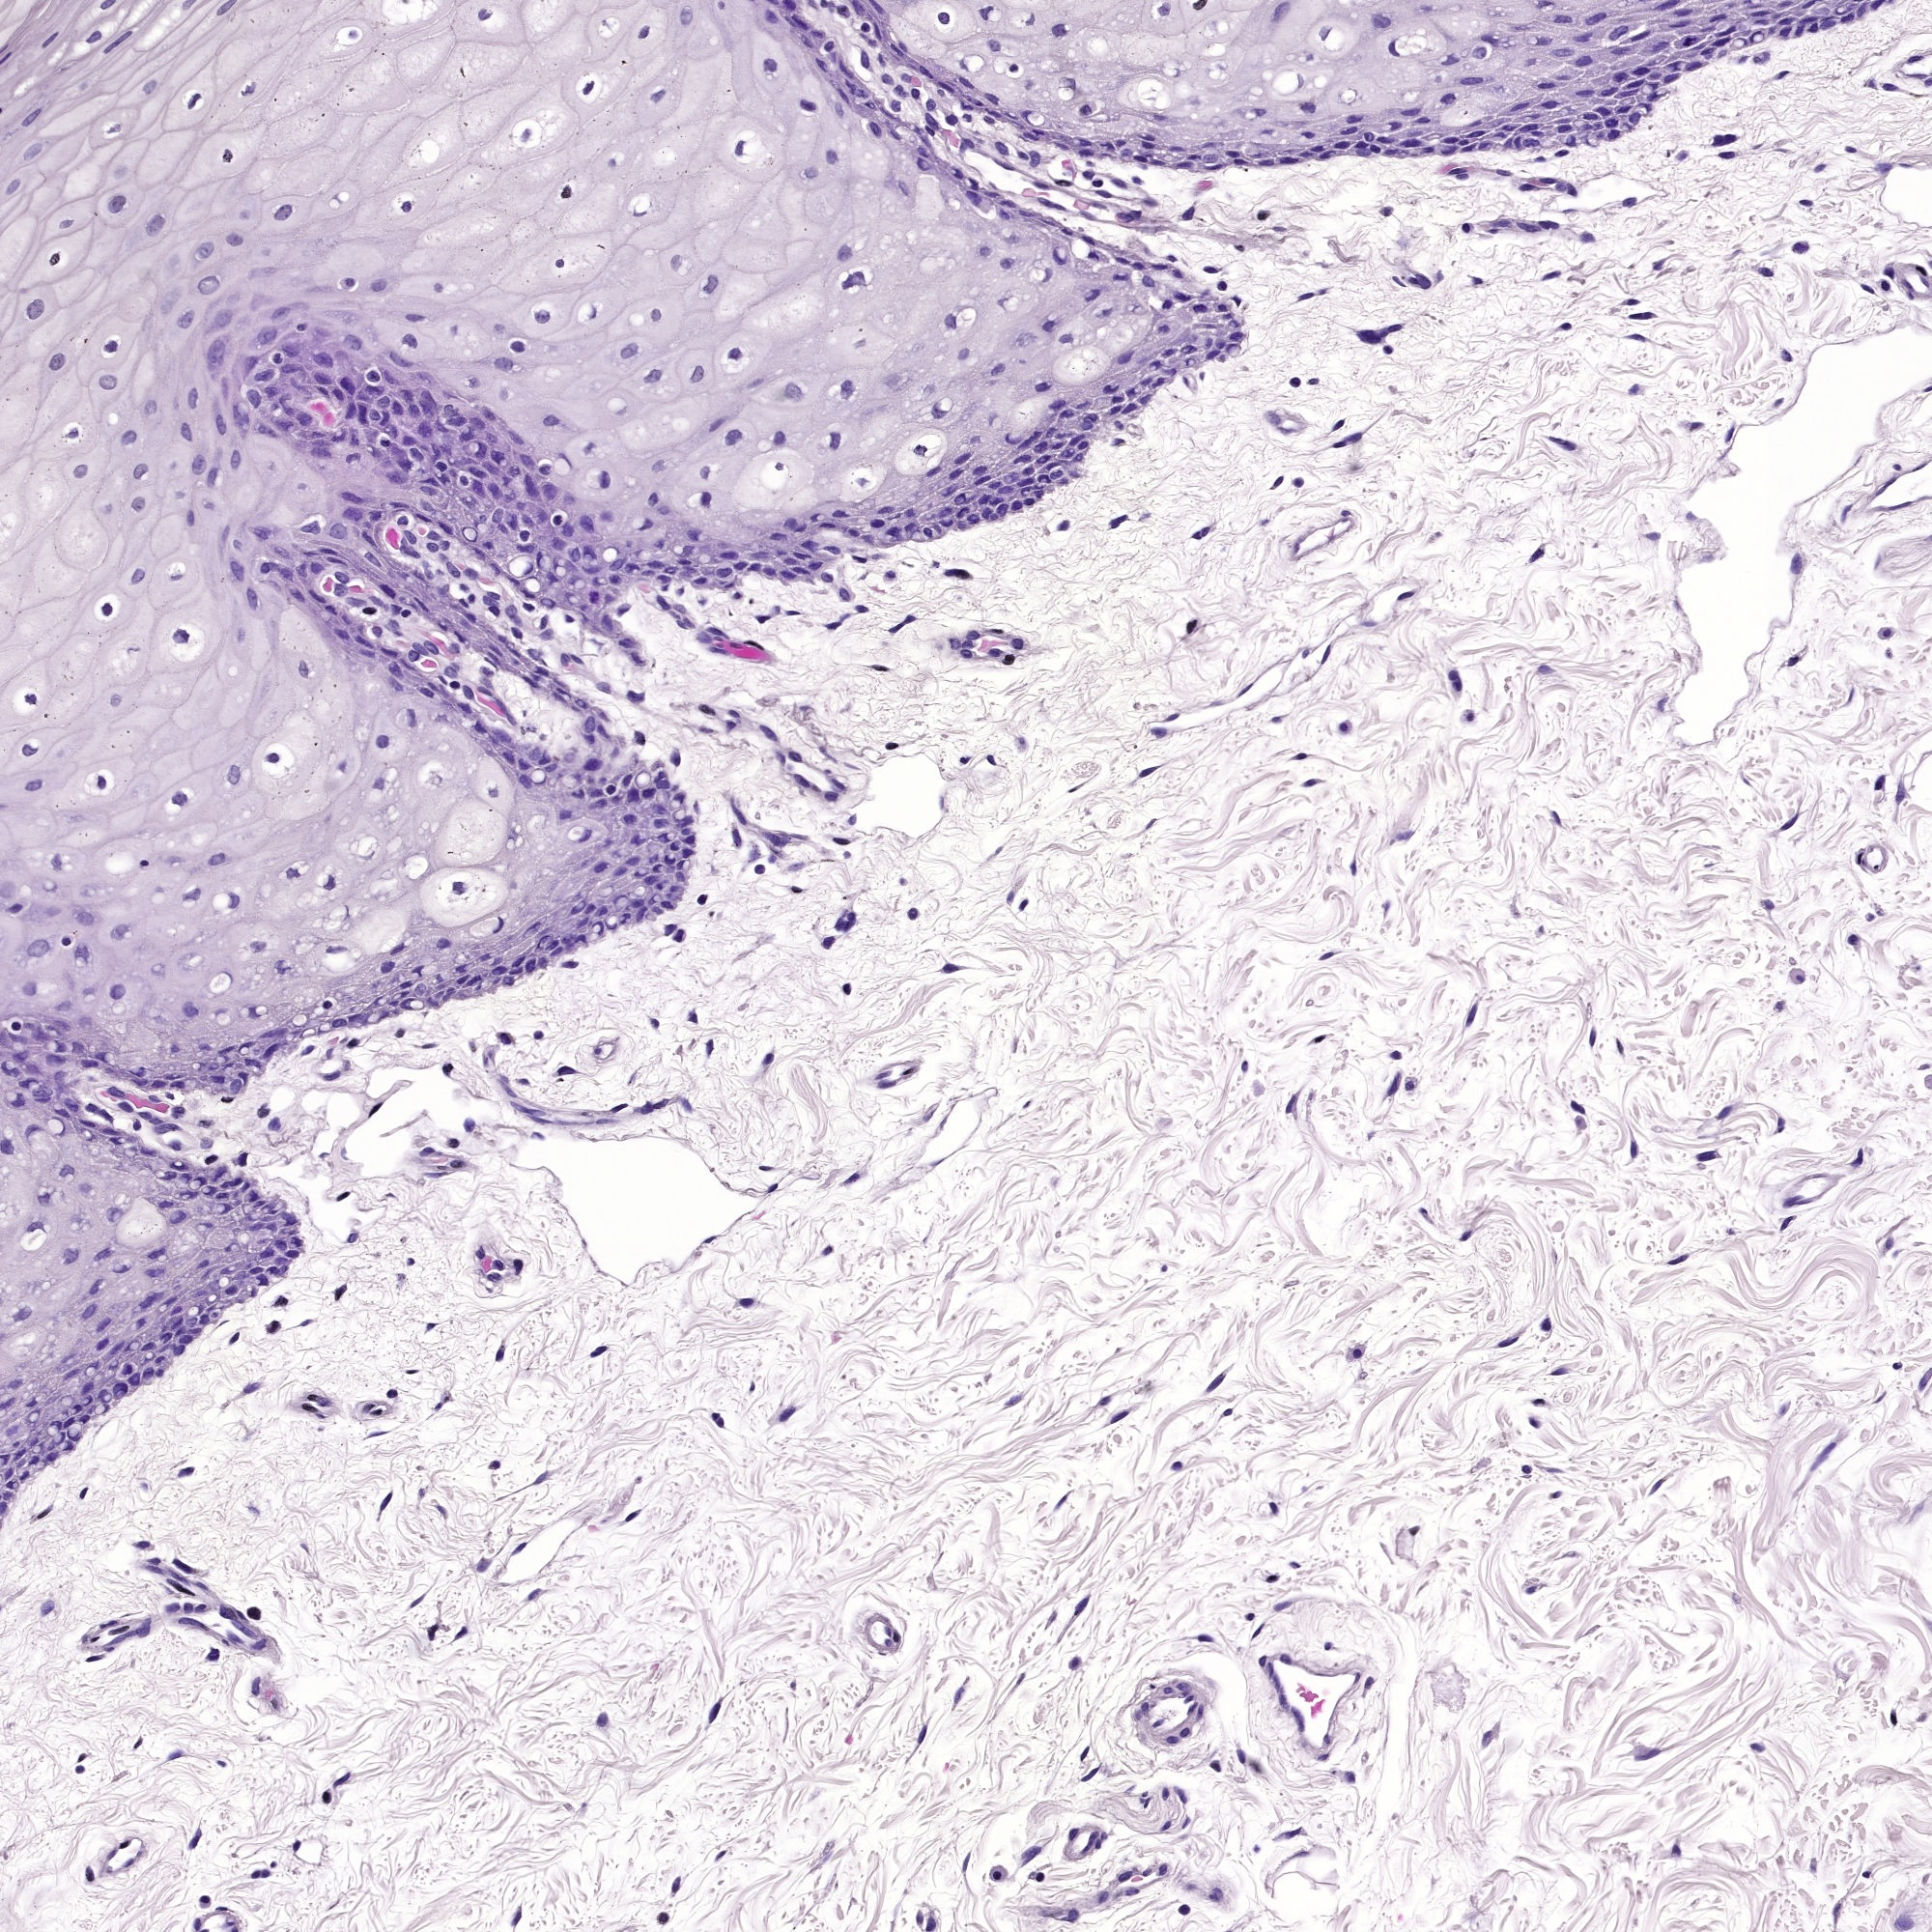epithelial: (732, 435, 741, 442), (78, 913, 87, 920), (278, 310, 283, 317), (402, 464, 409, 469), (50, 1058, 57, 1063), (69, 1104, 76, 1109), (354, 1016, 361, 1021), (203, 244, 207, 253), (218, 1077, 226, 1081), (30, 113, 35, 119), (1231, 334, 1237, 340), (1277, 7, 1283, 12), (269, 387, 274, 393), (527, 518, 533, 524), (372, 513, 377, 518), (219, 317, 226, 320), (80, 469, 83, 476), (426, 375, 430, 382), (651, 908, 658, 911), (660, 784, 667, 787), (479, 727, 483, 734), (32, 150, 37, 154), (626, 349, 632, 352), (287, 366, 297, 368), (349, 382, 352, 387), (387, 377, 393, 380), (800, 19, 803, 25), (1226, 315, 1231, 318), (1499, 133, 1504, 136), (428, 490, 432, 495), (444, 525, 448, 531), (653, 563, 658, 566), (936, 410, 941, 414), (812, 564, 823, 566), (787, 561, 793, 564), (807, 545, 812, 548), (625, 639, 628, 644), (361, 639, 364, 644), (387, 966, 391, 971), (50, 35, 53, 39), (34, 306, 37, 310), (117, 202, 120, 205), (232, 235, 235, 239), (805, 41, 809, 44), (807, 170, 810, 173), (826, 157, 830, 161), (809, 103, 812, 106), (840, 251, 844, 255), (1157, 265, 1161, 269), (876, 4, 879, 7), (1353, 117, 1357, 120), (140, 467, 142, 474), (265, 432, 269, 435), (396, 476, 403, 478), (488, 414, 492, 418), (476, 471, 479, 474), (372, 561, 375, 564), (345, 617, 349, 621), (501, 527, 504, 531), (662, 575, 665, 579), (754, 566, 757, 570), (844, 593, 847, 596), (1143, 398, 1146, 402), (648, 793, 655, 794), (658, 775, 662, 778), (589, 720, 591, 727), (540, 669, 543, 672), (501, 734, 504, 738), (432, 685, 435, 688), (377, 782, 380, 786), (32, 784, 39, 786), (274, 1033, 281, 1035), (62, 1111, 65, 1115), (230, 1182, 237, 1184), (177, 1323, 180, 1327), (145, 1300, 149, 1304), (207, 283, 209, 288), (322, 379, 327, 380), (837, 106, 839, 111), (1120, 260, 1125, 262), (1090, 295, 1095, 297), (994, 44, 996, 50), (1373, 149, 1378, 150), (1430, 145, 1431, 150), (1550, 103, 1552, 108), (188, 517, 193, 518), (294, 594, 299, 596), (313, 596, 318, 598), (375, 414, 377, 419), (425, 428, 426, 433), (421, 518, 426, 520), (398, 504, 403, 506), (607, 623, 609, 628), (778, 437, 780, 442), (787, 577, 793, 579), (639, 911, 640, 916), (598, 911, 603, 913), (552, 764, 554, 770), (380, 738, 382, 743), (39, 945, 41, 950), (28, 987, 30, 993), (120, 927, 122, 932), (189, 1010, 191, 1016), (177, 1085, 182, 1086), (235, 1085, 237, 1090), (244, 1074, 246, 1079), (285, 1214, 287, 1219), (280, 1258, 281, 1263), (257, 1269, 258, 1274), (69, 1253, 71, 1258), (21, 1311, 23, 1316), (11, 184, 12, 188), (281, 212, 285, 214), (377, 285, 380, 287), (656, 311, 658, 315), (412, 340, 414, 343), (248, 361, 251, 363), (502, 363, 504, 366), (817, 32, 819, 35), (770, 62, 771, 65), (708, 287, 711, 288), (736, 352, 738, 356), (1138, 265, 1139, 269), (1118, 278, 1122, 280), (1049, 326, 1051, 329), (998, 366, 1001, 368), (968, 81, 970, 85), (1037, 131, 1040, 133), (1062, 147, 1063, 150), (1085, 143, 1086, 147), (1410, 111, 1412, 115), (1306, 152, 1307, 156), (1410, 143, 1414, 145), (1474, 133, 1476, 136), (1467, 147, 1470, 149), (1484, 145, 1488, 147), (1506, 127, 1507, 131), (1516, 142, 1518, 145), (1529, 127, 1530, 131), (1546, 83, 1548, 87), (1564, 18, 1566, 21), (1587, 92, 1589, 96), (127, 435, 131, 437), (150, 407, 152, 410), (253, 596, 255, 600), (257, 533, 260, 534), (327, 548, 331, 550), (389, 591, 391, 594), (336, 531, 340, 533), (303, 418, 306, 419), (373, 389, 375, 393), (416, 453, 419, 455), (441, 428, 444, 430), (455, 421, 458, 423), (476, 423, 478, 426), (435, 449, 437, 453), (432, 479, 433, 483), (490, 465, 492, 469), (527, 458, 529, 462), (350, 497, 354, 499), (366, 540, 370, 541), (487, 543, 488, 547), (587, 520, 589, 524), (653, 497, 655, 501), (704, 469, 706, 472), (663, 586, 665, 589), (824, 577, 828, 579), (757, 554, 759, 557), (1157, 382, 1161, 384), (635, 655, 637, 658), (617, 870, 621, 872), (635, 860, 637, 863), (674, 886, 676, 890), (690, 839, 692, 842), (593, 763, 594, 766), (603, 731, 605, 734), (490, 660, 492, 663), (543, 759, 545, 763), (425, 690, 426, 694), (405, 662, 407, 665), (405, 713, 407, 717), (18, 1054, 21, 1056), (76, 1046, 78, 1049), (157, 1083, 159, 1086), (253, 1063, 257, 1065), (271, 1049, 272, 1053), (340, 1023, 341, 1026), (396, 948, 400, 950), (444, 943, 446, 947), (88, 1123, 92, 1125), (253, 1194, 255, 1198), (253, 1224, 257, 1226), (295, 1242, 297, 1246), (265, 1251, 267, 1254), (281, 1269, 285, 1270), (184, 1338, 186, 1341), (103, 1323, 106, 1325), (30, 1401, 34, 1403), (7, 1472, 9, 1476), (120, 39, 122, 41), (108, 380, 110, 382), (154, 225, 156, 226), (437, 287, 439, 288), (352, 343, 354, 345), (292, 349, 294, 350), (770, 12, 771, 14), (688, 16, 690, 18), (874, 127, 876, 129), (697, 375, 699, 377), (904, 186, 906, 188), (973, 184, 975, 186), (971, 196, 973, 198), (948, 322, 950, 324), (993, 195, 994, 196), (1003, 216, 1005, 218), (1067, 232, 1069, 234), (1088, 239, 1090, 241), (1148, 280, 1150, 281), (1182, 295, 1184, 297), (1189, 349, 1191, 350), (1169, 352, 1171, 354), (1122, 356, 1123, 357), (1065, 334, 1067, 336), (858, 7, 860, 9), (901, 44, 902, 46), (895, 48, 897, 50), (945, 87, 947, 88), (993, 99, 994, 101), (978, 103, 980, 104), (994, 111, 996, 113), (1086, 152, 1088, 154), (1118, 142, 1120, 143), (1187, 163, 1189, 165), (1240, 161, 1242, 163), (1290, 161, 1292, 163), (1056, 28, 1058, 30), (1380, 18, 1382, 19), (1447, 99, 1449, 101), (1467, 80, 1468, 81), (1307, 136, 1309, 138), (1352, 129, 1353, 131), (1325, 154, 1327, 156), (1391, 152, 1392, 154), (1447, 150, 1449, 152), (1537, 133, 1539, 134), (1562, 129, 1564, 131), (1583, 60, 1585, 62), (219, 425, 221, 426), (288, 573, 290, 575), (341, 577, 343, 579), (315, 566, 317, 568), (324, 391, 326, 393), (451, 395, 453, 396), (515, 437, 517, 439), (550, 421, 552, 423), (426, 506, 428, 508), (550, 488, 552, 490), (354, 513, 356, 515), (333, 559, 334, 561), (331, 610, 333, 612), (479, 554, 481, 556), (494, 566, 495, 568), (527, 593, 529, 594), (616, 564, 617, 566), (715, 421, 717, 423), (740, 564, 741, 566), (736, 594, 738, 596), (800, 570, 801, 571), (801, 557, 803, 559), (649, 879, 651, 881), (600, 867, 602, 869), (658, 886, 660, 888), (600, 801, 602, 803), (579, 794, 580, 796), (563, 814, 564, 816), (591, 740, 593, 741), (580, 701, 582, 702), (559, 688, 561, 690), (465, 708, 467, 709), (396, 685, 398, 686), (364, 653, 366, 655), (405, 984, 407, 985), (464, 978, 465, 980), (474, 980, 476, 982), (510, 982, 511, 984), (517, 971, 518, 973), (520, 961, 522, 962), (554, 943, 556, 945), (280, 1244, 281, 1246), (292, 1253, 294, 1254), (175, 1307, 177, 1309), (179, 1348, 180, 1350), (147, 1371, 149, 1373), (157, 1373, 159, 1375), (157, 1253, 159, 1254), (101, 1343, 103, 1345), (119, 1346, 120, 1348), (50, 1456, 51, 1458)
fibroblast and endothelial: (784, 1412, 789, 1421), (849, 1177, 856, 1182), (1644, 1752, 1652, 1755), (1546, 223, 1552, 228), (375, 1106, 380, 1111), (660, 1100, 665, 1106), (430, 1629, 435, 1635), (1364, 333, 1368, 340), (1718, 136, 1725, 140), (1762, 271, 1769, 274), (1555, 814, 1559, 821), (729, 724, 732, 731), (375, 602, 382, 605), (352, 600, 359, 603), (329, 1074, 336, 1077), (713, 1709, 717, 1716), (1079, 1601, 1083, 1608), (1123, 1875, 1131, 1879), (1007, 165, 1010, 170), (1046, 203, 1051, 207), (1500, 168, 1504, 173), (1783, 352, 1789, 356), (1868, 81, 1872, 87), (410, 536, 414, 541), (679, 607, 685, 610), (955, 571, 961, 575), (1652, 533, 1658, 536), (1161, 732, 1164, 738), (706, 709, 711, 713), (791, 888, 796, 892), (430, 644, 433, 649), (522, 1079, 527, 1083), (1468, 1016, 1472, 1021), (1545, 1320, 1548, 1325), (175, 1753, 180, 1757), (193, 1842, 196, 1847), (127, 1861, 133, 1865), (439, 1507, 442, 1513), (1269, 1578, 1274, 1582), (1755, 1746, 1760, 1750), (1536, 157, 1545, 159), (688, 623, 697, 625), (950, 119, 954, 122), (1150, 200, 1154, 203), (1256, 214, 1260, 218), (1456, 170, 1463, 172), (1500, 221, 1504, 225), (1642, 313, 1645, 317), (1658, 265, 1661, 269), (1727, 154, 1730, 157), (1849, 147, 1852, 150), (1865, 287, 1868, 290), (1920, 267, 1923, 271), (1886, 87, 1893, 88), (568, 617, 571, 621), (1115, 520, 1118, 524), (1196, 534, 1200, 538), (1286, 430, 1290, 433), (826, 524, 830, 527), (837, 510, 839, 517), (982, 497, 985, 501), (1003, 490, 1010, 492), (1028, 471, 1031, 474), (1028, 439, 1031, 442), (1054, 403, 1058, 407), (1790, 660, 1794, 663), (1150, 821, 1154, 824), (1008, 893, 1010, 901), (878, 665, 881, 669), (830, 794, 833, 798), (800, 778, 803, 782), (768, 731, 771, 734), (575, 660, 579, 663), (563, 658, 564, 665), (418, 646, 421, 649), (410, 655, 414, 658), (881, 1085, 888, 1086), (906, 1070, 909, 1074), (1573, 1104, 1576, 1108), (1723, 1111, 1727, 1115), (1787, 1200, 1790, 1203), (1801, 1201, 1808, 1203), (1923, 1380, 1927, 1384), (1116, 1417, 1120, 1421), (771, 1185, 775, 1189), (596, 1350, 600, 1353), (600, 1120, 603, 1123), (257, 1645, 264, 1647), (1261, 1661, 1265, 1665), (1185, 1698, 1189, 1702), (1180, 1684, 1184, 1688), (1164, 1824, 1168, 1828), (1654, 1484, 1658, 1488), (1527, 1587, 1530, 1591), (1523, 228, 1529, 230), (1803, 202, 1808, 203), (1353, 437, 1359, 439), (1403, 594, 1408, 596), (984, 511, 989, 513), (1086, 423, 1088, 428), (1076, 437, 1077, 442), (1325, 655, 1327, 660), (717, 651, 722, 653), (487, 671, 488, 676), (379, 628, 380, 633), (306, 1047, 308, 1053), (426, 1046, 432, 1047), (517, 1108, 522, 1109), (1592, 1033, 1594, 1039), (1707, 1157, 1713, 1159), (1014, 1398, 1016, 1403), (492, 1463, 497, 1465), (184, 1472, 189, 1474), (189, 1621, 195, 1622), (1277, 1606, 1283, 1608), (1240, 1755, 1242, 1760), (1212, 1767, 1217, 1769), (1136, 1713, 1138, 1718), (1219, 1891, 1221, 1897), (1288, 1833, 1293, 1835), (1488, 1736, 1490, 1741), (1865, 1874, 1870, 1875), (1060, 180, 1063, 182), (1104, 191, 1108, 193), (1097, 203, 1100, 205), (1185, 212, 1189, 214), (1171, 258, 1175, 260), (1550, 274, 1552, 278), (1566, 324, 1568, 327), (1461, 175, 1463, 179), (1523, 186, 1527, 188), (1571, 189, 1573, 193), (1890, 271, 1891, 274), (1907, 281, 1909, 285), (1780, 73, 1782, 76), (1918, 76, 1921, 78), (433, 534, 435, 538), (407, 550, 410, 552), (488, 602, 492, 603), (510, 609, 511, 612), (515, 632, 517, 635), (621, 609, 625, 610), (662, 602, 663, 605), (674, 614, 678, 616), (681, 625, 685, 626), (1277, 481, 1279, 485), (1336, 444, 1339, 446), (1338, 423, 1339, 426), (1063, 524, 1065, 527), (858, 559, 862, 561), (881, 510, 885, 511), (961, 458, 964, 460), (945, 522, 948, 524), (1129, 407, 1131, 410), (1017, 640, 1019, 644), (1564, 444, 1568, 446), (1633, 387, 1635, 391), (1691, 515, 1693, 518), (1776, 402, 1780, 403), (1916, 467, 1920, 469), (1902, 504, 1905, 506), (1898, 794, 1902, 796), (1787, 823, 1790, 824), (1548, 667, 1550, 671), (1300, 754, 1302, 757), (1244, 688, 1247, 690), (1148, 770, 1152, 771), (1023, 902, 1024, 906), (964, 653, 968, 655), (994, 653, 996, 656), (851, 817, 853, 821), (839, 782, 840, 786), (793, 754, 794, 757), (780, 757, 782, 761), (732, 711, 734, 715), (740, 816, 741, 819), (736, 835, 738, 839), (752, 853, 754, 856), (773, 837, 777, 839), (793, 865, 796, 867), (702, 635, 704, 639), (717, 639, 720, 640), (754, 644, 757, 646), (499, 702, 501, 706), (485, 679, 487, 683), (467, 690, 469, 694), (453, 646, 455, 649), (90, 1108, 94, 1109), (113, 1092, 115, 1095), (124, 1108, 127, 1109), (175, 1109, 179, 1111), (329, 1051, 331, 1054), (502, 1077, 506, 1079), (617, 1108, 621, 1109), (1408, 1085, 1410, 1088), (1858, 1157, 1861, 1159), (1504, 1343, 1507, 1345), (1532, 1421, 1534, 1424), (1214, 1382, 1217, 1384), (720, 1419, 722, 1422), (497, 1263, 499, 1267), (492, 1277, 495, 1279), (479, 1251, 481, 1254), (180, 1566, 184, 1568), (154, 1569, 157, 1571), (177, 1585, 179, 1589), (186, 1610, 189, 1612), (225, 1612, 226, 1615), (239, 1626, 241, 1629), (235, 1637, 237, 1640), (126, 1635, 129, 1637), (117, 1629, 120, 1631), (257, 1683, 258, 1686), (111, 1852, 113, 1856), (297, 1844, 301, 1845), (416, 1599, 419, 1601), (462, 1631, 464, 1635), (518, 1545, 520, 1548), (602, 1718, 603, 1721), (1256, 1629, 1258, 1633), (1283, 1700, 1284, 1704), (1357, 1675, 1359, 1679), (1350, 1778, 1352, 1782), (1148, 1686, 1152, 1688), (1035, 1851, 1037, 1854), (1104, 1835, 1106, 1838), (1557, 1493, 1559, 1497), (1675, 1849, 1677, 1852), (1904, 1921, 1905, 1925), (931, 1923, 932, 1927), (517, 1914, 518, 1918), (899, 90, 901, 92), (931, 103, 932, 104), (929, 129, 931, 131), (989, 119, 991, 120), (968, 142, 970, 143), (1021, 154, 1023, 156), (1033, 157, 1035, 159), (1088, 173, 1090, 175), (1118, 182, 1120, 184), (1125, 216, 1127, 218), (1086, 214, 1088, 216), (1304, 295, 1306, 297), (1396, 327, 1398, 329), (1493, 230, 1495, 232), (1587, 235, 1589, 237), (1739, 58, 1741, 60), (1913, 58, 1914, 60), (432, 547, 433, 548), (469, 573, 471, 575), (529, 607, 531, 609), (517, 621, 518, 623), (717, 630, 718, 632), (895, 628, 897, 630), (893, 531, 895, 533), (943, 511, 945, 513), (959, 513, 961, 515), (980, 479, 982, 481), (971, 518, 973, 520), (994, 517, 996, 518), (1003, 510, 1005, 511), (993, 485, 994, 487), (971, 633, 973, 635), (998, 630, 1000, 632), (1352, 865, 1353, 867), (1371, 625, 1373, 626), (1072, 789, 1074, 791), (991, 759, 993, 761), (633, 697, 635, 699), (602, 685, 603, 686), (487, 690, 488, 692), (451, 674, 453, 676), (226, 1099, 228, 1100), (354, 1042, 356, 1044), (400, 1033, 402, 1035), (506, 1088, 508, 1090), (564, 1067, 566, 1069), (669, 929, 671, 931), (1785, 1221, 1787, 1223), (1785, 1408, 1787, 1410), (713, 1415, 715, 1417), (747, 1300, 748, 1302), (826, 1251, 828, 1253), (540, 1118, 541, 1120), (41, 1514, 42, 1516), (83, 1493, 85, 1495), (172, 1608, 173, 1610), (110, 1622, 111, 1624), (96, 1656, 97, 1658), (221, 1764, 223, 1766), (122, 1844, 124, 1845), (483, 1566, 485, 1568), (541, 1477, 543, 1479), (720, 1852, 722, 1854), (1295, 1714, 1297, 1716), (1074, 1833, 1076, 1835), (1178, 1790, 1180, 1792), (1146, 1872, 1148, 1874), (1129, 1891, 1131, 1893)
inflammatory: (246, 1385, 257, 1391), (269, 1325, 274, 1330), (200, 1122, 209, 1123), (251, 396, 255, 400), (1895, 1364, 1898, 1368), (409, 1369, 412, 1373), (373, 1410, 377, 1414), (504, 1037, 506, 1042), (1852, 936, 1854, 941), (456, 1162, 462, 1164), (340, 1288, 341, 1293), (253, 1608, 255, 1614), (968, 117, 970, 120), (1799, 246, 1801, 249), (446, 1067, 448, 1070), (679, 934, 681, 938), (306, 1405, 308, 1408), (1074, 1660, 1076, 1663), (1249, 1615, 1251, 1619), (853, 278, 855, 280), (840, 9, 842, 11), (265, 566, 267, 568), (1470, 715, 1472, 717), (159, 1129, 161, 1131), (442, 1168, 444, 1169), (437, 1407, 439, 1408), (375, 1433, 377, 1435)
lymphocyte: (175, 796, 180, 801), (607, 786, 610, 791), (214, 858, 218, 863), (207, 1159, 212, 1162), (559, 262, 563, 265), (479, 12, 483, 16), (941, 14, 945, 18), (828, 44, 832, 48), (1095, 182, 1099, 186), (368, 610, 372, 614), (918, 449, 922, 453), (142, 863, 145, 867), (28, 697, 30, 702), (226, 154, 228, 157), (518, 347, 522, 349), (1198, 2, 1201, 4), (1477, 50, 1479, 53), (405, 612, 407, 616), (911, 913, 913, 916), (701, 897, 702, 901), (12, 1024, 16, 1026), (391, 1392, 393, 1396), (214, 1315, 216, 1318), (127, 1368, 129, 1371), (195, 99, 196, 101), (407, 203, 409, 205), (566, 193, 568, 195), (278, 357, 280, 359), (108, 345, 110, 347), (73, 433, 74, 435), (465, 479, 467, 481), (927, 531, 929, 533), (271, 759, 272, 761), (327, 1003, 329, 1005), (1184, 1907, 1185, 1909)
